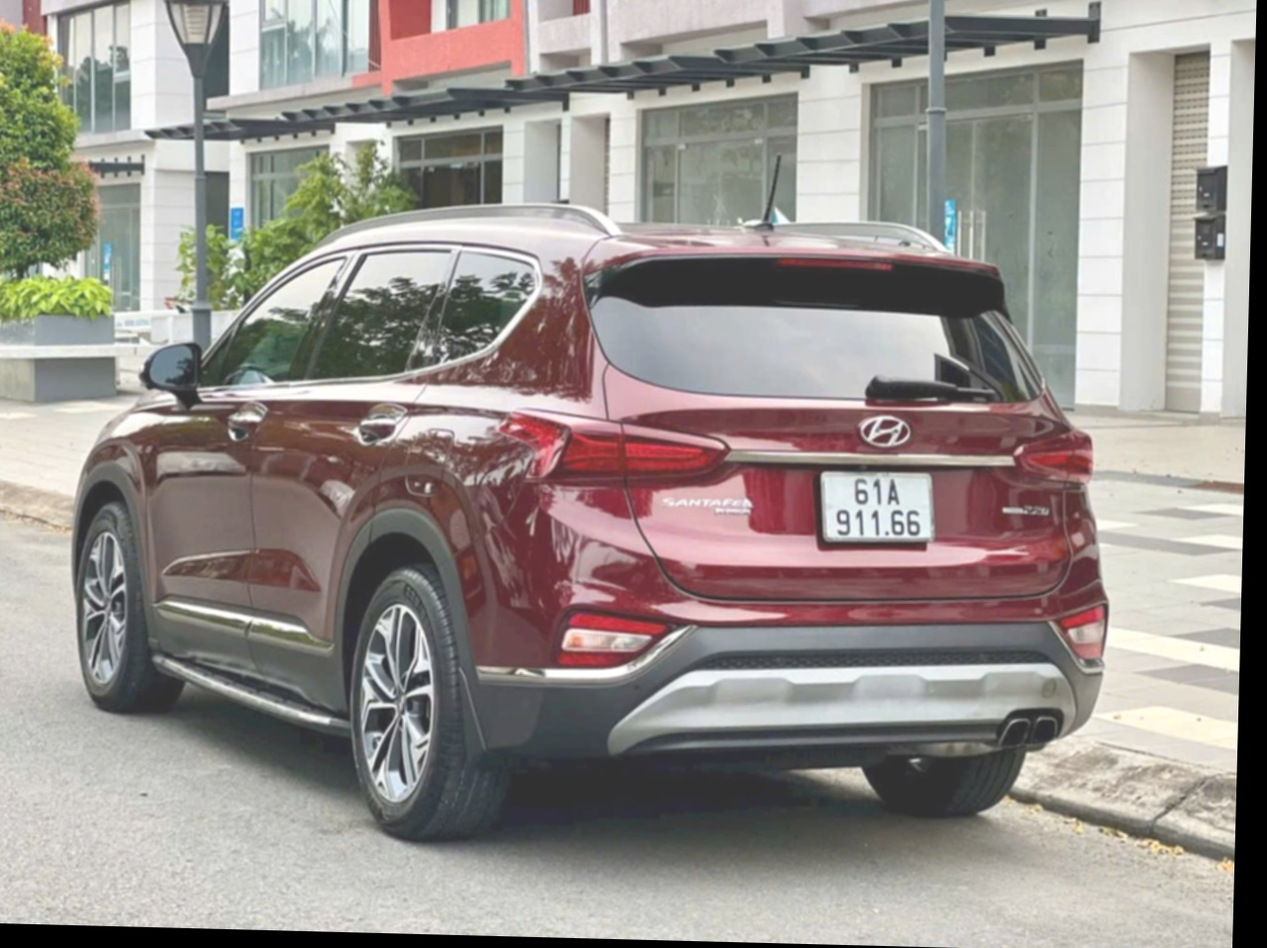Bien-so: (856, 505, 968, 579)
